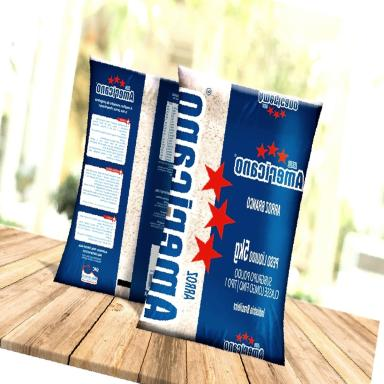rice package: (139, 67, 321, 364), (56, 58, 178, 302)
